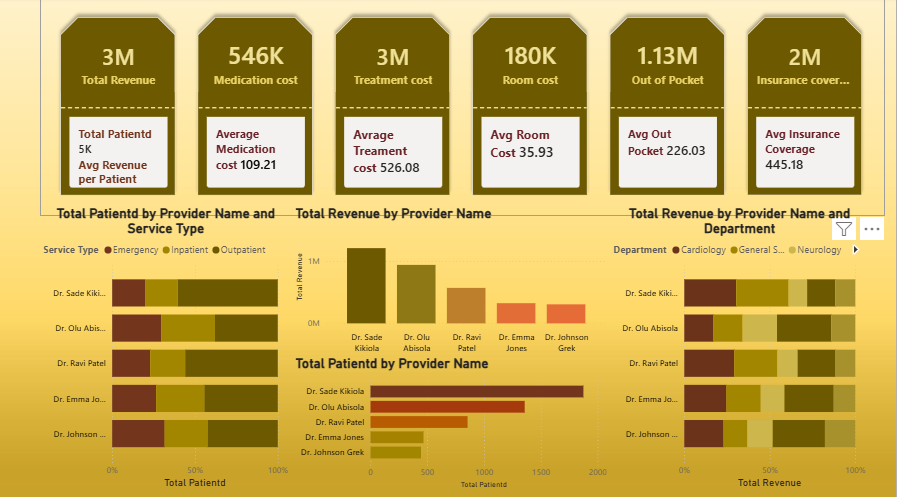

This screenshot's page, from the dashboard's own definition file:
{"tool":"powerbi","page":{"name":"Providers Insight","canvas":[1280,720],"ordinal":1},"visuals":[{"type":"cardVisual","fields":{"Data":["cities.Total Revenue","cities.Medication cost","cities.Treatment cost","cities.Room cost","cities.Out of Pocket","cities.Insurance coverage"]},"box":[59,0,1204.9,312.8],"z":0},{"type":"columnChart","fields":{"Category":["providers.Provider Name"],"Y":["cities.Total Revenue"]},"box":[418.3,296.8,454.1,219.9],"z":1000},{"type":"hundredPercentStackedBarChart","fields":{"Y":["cities.Total Revenue"],"Category":["providers.Provider Name"],"Series":["departments.Department"]},"box":[872.4,296.8,370.1,409.4],"z":2000},{"type":"barChart","fields":{"Category":["providers.Provider Name"],"Y":["cities.Total Patientd"]},"box":[418.3,511.3,454.1,194.9],"z":3000},{"type":"hundredPercentStackedBarChart","fields":{"Y":["cities.Total Patientd"],"Category":["providers.Provider Name"],"Series":["visits.Service Type"]},"box":[59,296.8,359.3,409.4],"z":4000}]}

Visuals, with their boxes in screenshot pixels (x1, y1, x2, y2), scaled from the page's 1280x720 canvas onto the 897x497 screenshot:
cardVisual - cities.Total Revenue x cities.Medication cost: x1=41, y1=0, x2=886, y2=216
columnChart - providers.Provider Name x cities.Total Revenue: x1=293, y1=205, x2=611, y2=357
hundredPercentStackedBarChart - cities.Total Revenue x providers.Provider Name: x1=611, y1=205, x2=871, y2=487
barChart - providers.Provider Name x cities.Total Patientd: x1=293, y1=353, x2=611, y2=487
hundredPercentStackedBarChart - cities.Total Patientd x providers.Provider Name: x1=41, y1=205, x2=293, y2=487
